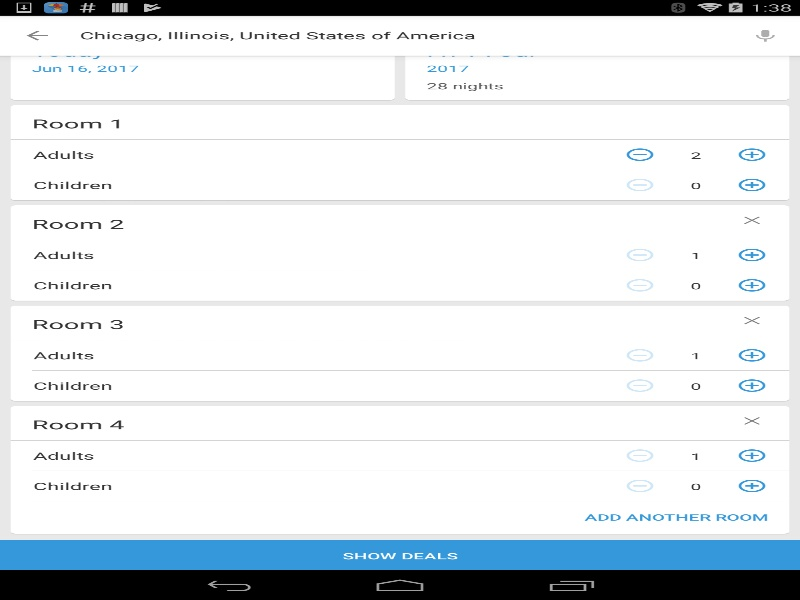Button: (0, 540, 800, 570), (573, 506, 778, 528), (0, 15, 74, 55), (613, 142, 666, 167), (725, 142, 778, 167), (613, 172, 666, 197), (725, 172, 778, 197), (613, 242, 666, 267), (725, 242, 778, 267), (613, 272, 666, 297), (725, 272, 778, 297), (613, 342, 666, 367), (725, 342, 778, 367), (613, 373, 666, 398), (725, 373, 778, 398), (613, 443, 666, 468), (725, 443, 778, 468), (613, 473, 666, 498), (725, 473, 778, 498)
Input: (74, 24, 730, 46)
